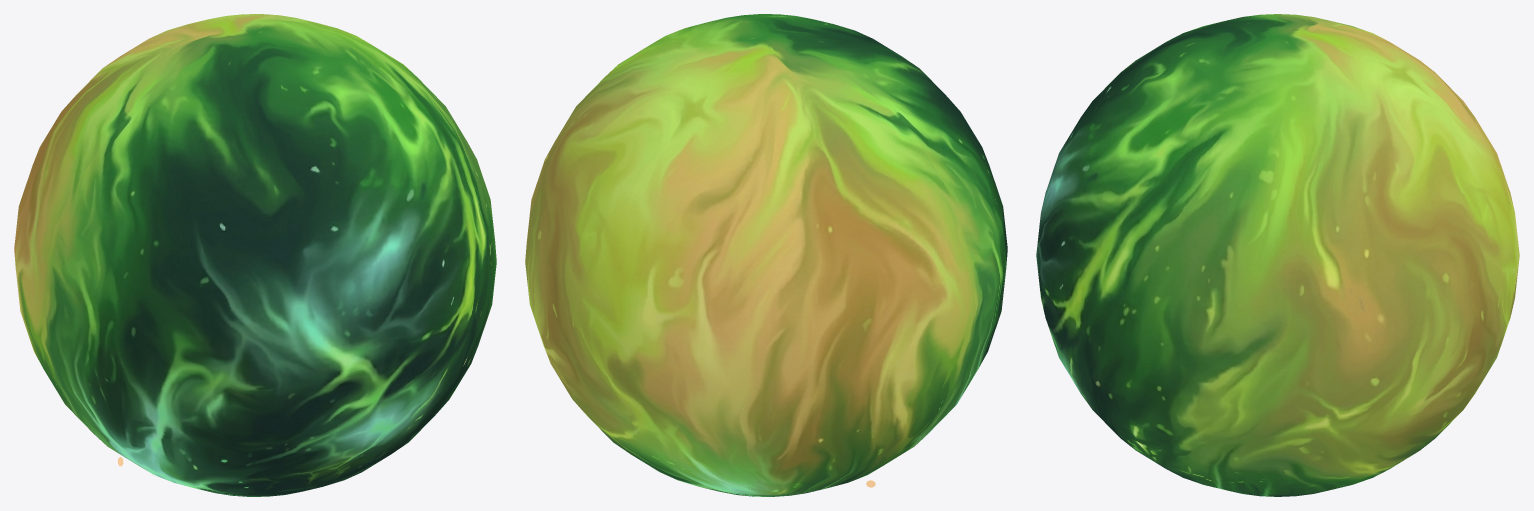
Rendered from Eura.glb.
The picture shows the model from 3 angles, left to right: view 1: azimuth 30°, elevation 25°; view 2: azimuth 150°, elevation 25°; view 3: azimuth 270°, elevation 25°; orthographic projection.
Visible parts, largest first — view 1: Mars; view 2: Mars; view 3: Mars.
Part boxes in pixels (x1=…): Mars: x1=14, y1=14, x2=496, y2=496; Mars: x1=525, y1=14, x2=1007, y2=496; Mars: x1=1036, y1=14, x2=1519, y2=496.
Size of the model in its own units: 2 by 2.01 by 2.
Materials: 2 (1 with a texture image).
